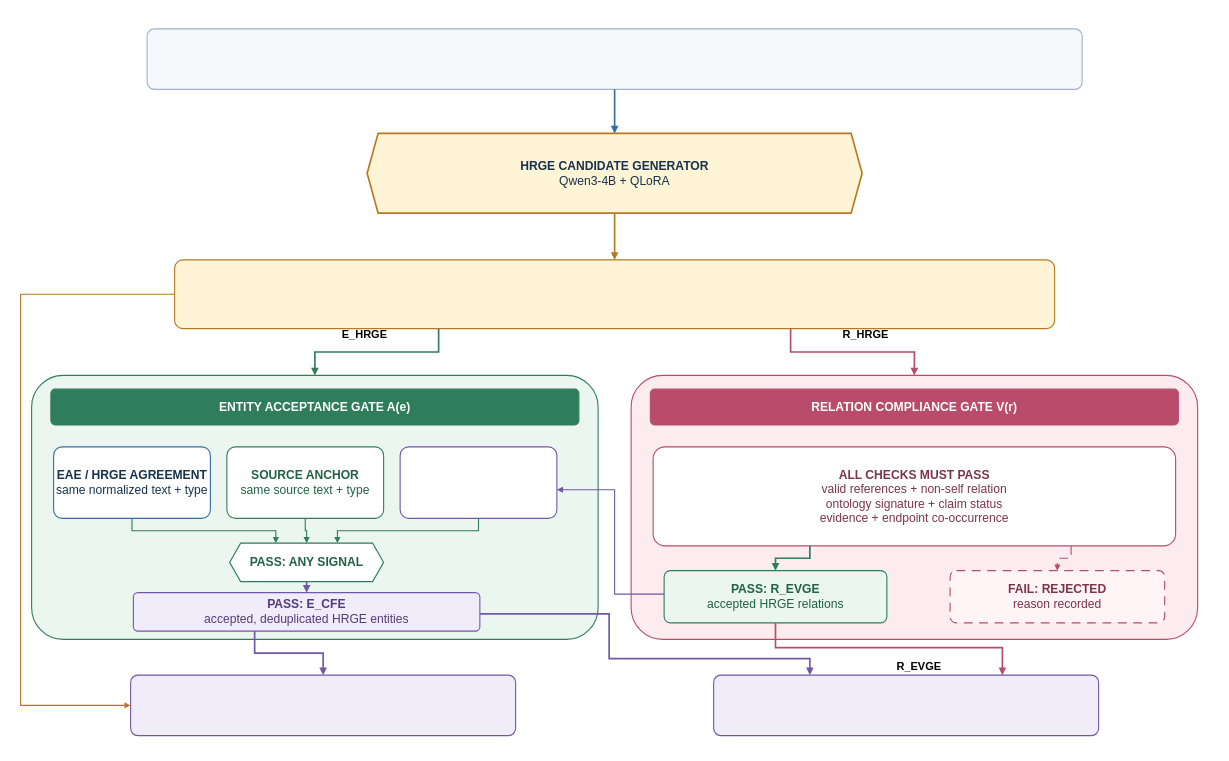
Some shapes in this 1229 by 761 pixel diagram are drawn without their labels. The shapes that lost their labels are listed below. From the top down, each one's centre as x and y in pixels, then its label:
At (x=614, y=59): "EVIDENCE-PRESERVING SOURCE WINDOW source evidence + stable segment identifiers".
At (x=614, y=294): "HRGE CANDIDATES E_HRGE entities | R_HRGE relations".
At (x=478, y=482): "VERIFIED ENDPOINT entity occurs in R_EVGE".
At (x=323, y=705): "CONSERVATIVE-FUSION EXTRACTION (CFE) E_CFE + endpoint-filtered R_HRGE".
At (x=906, y=705): "PROVENANCE-GATED EXTRACTION (PGE) E_CFE + endpoint-filtered R_EVGE".
